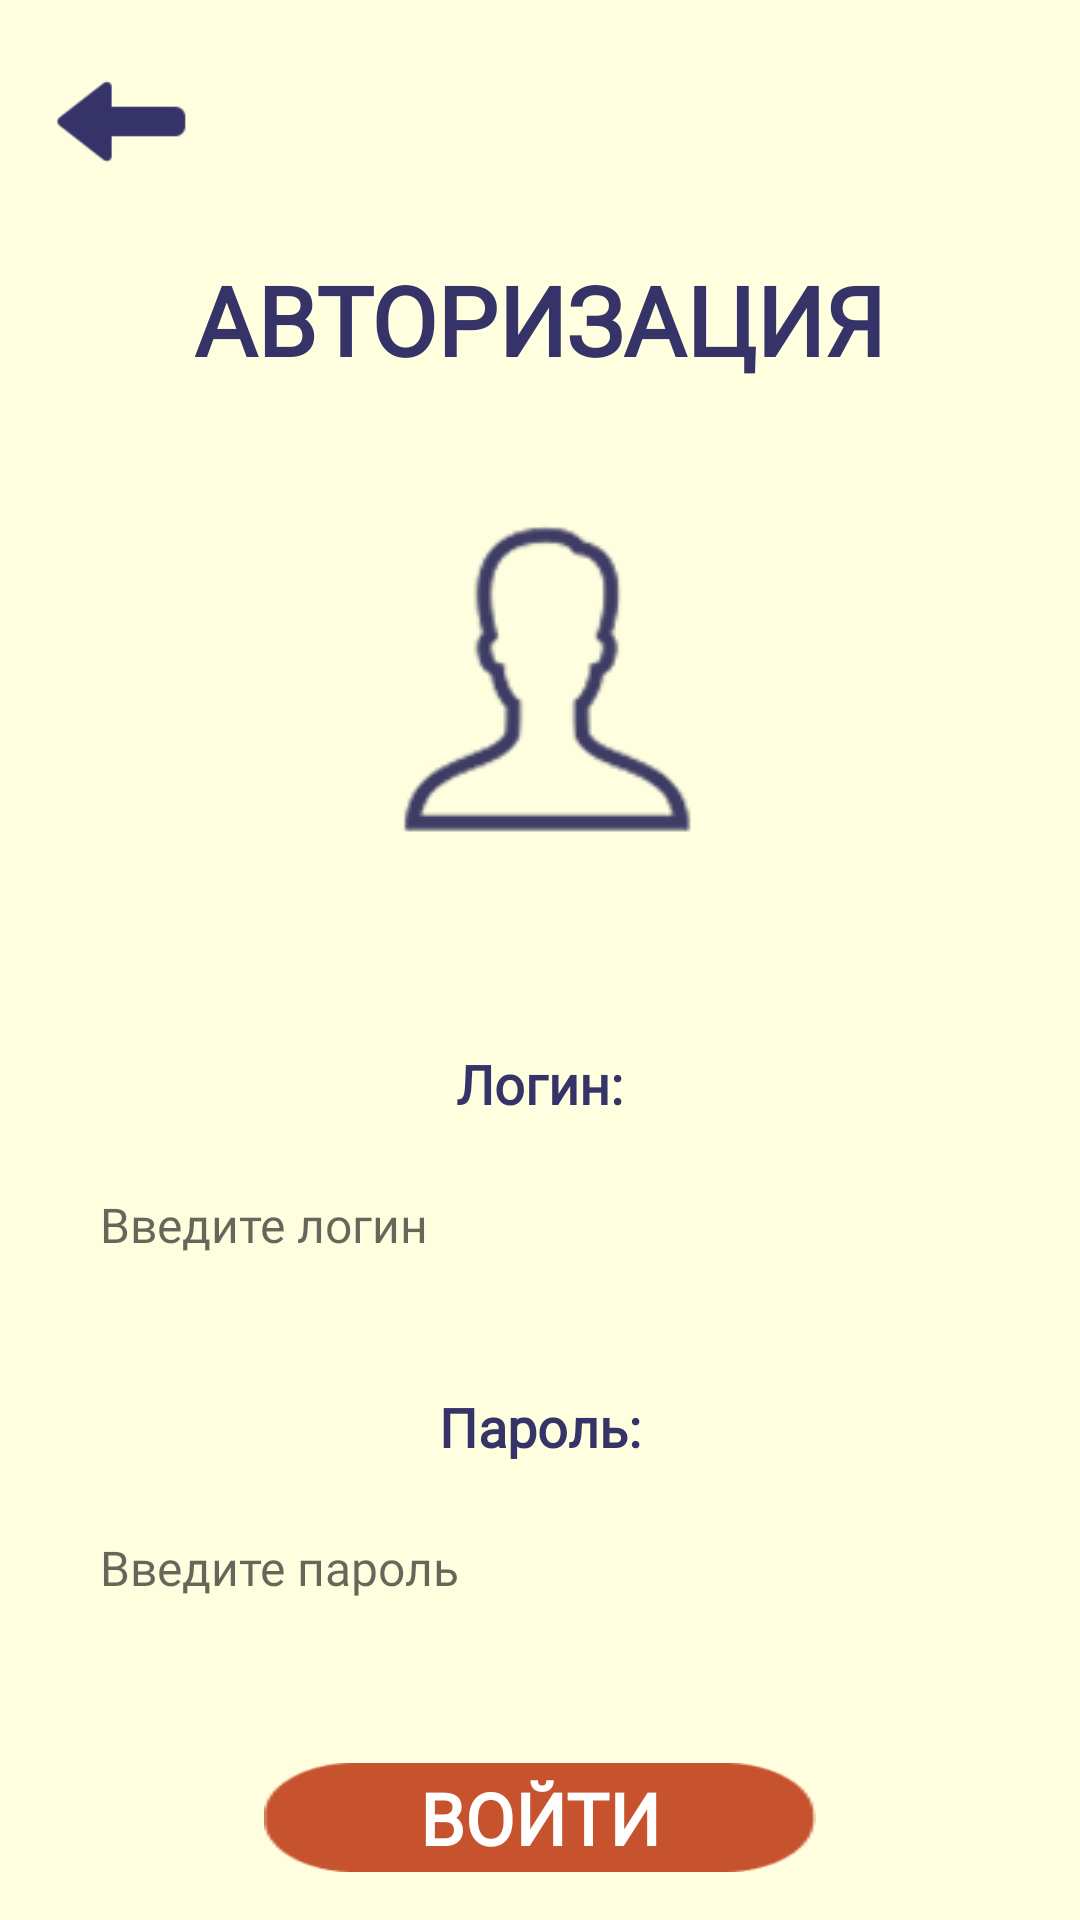

Icon click points for this 1080px x 1920px phone screenshot, format [x,y]:
user front: [547,679]
